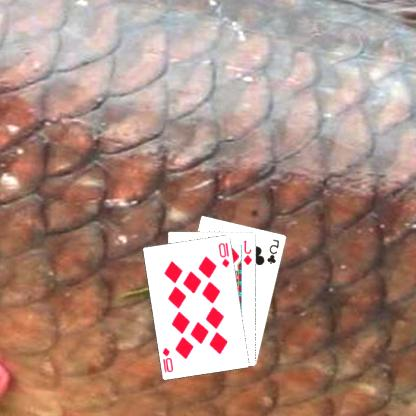10D: (162, 344, 176, 374), (218, 240, 232, 268)
5C: (266, 237, 283, 265)
JD: (242, 238, 255, 266)
